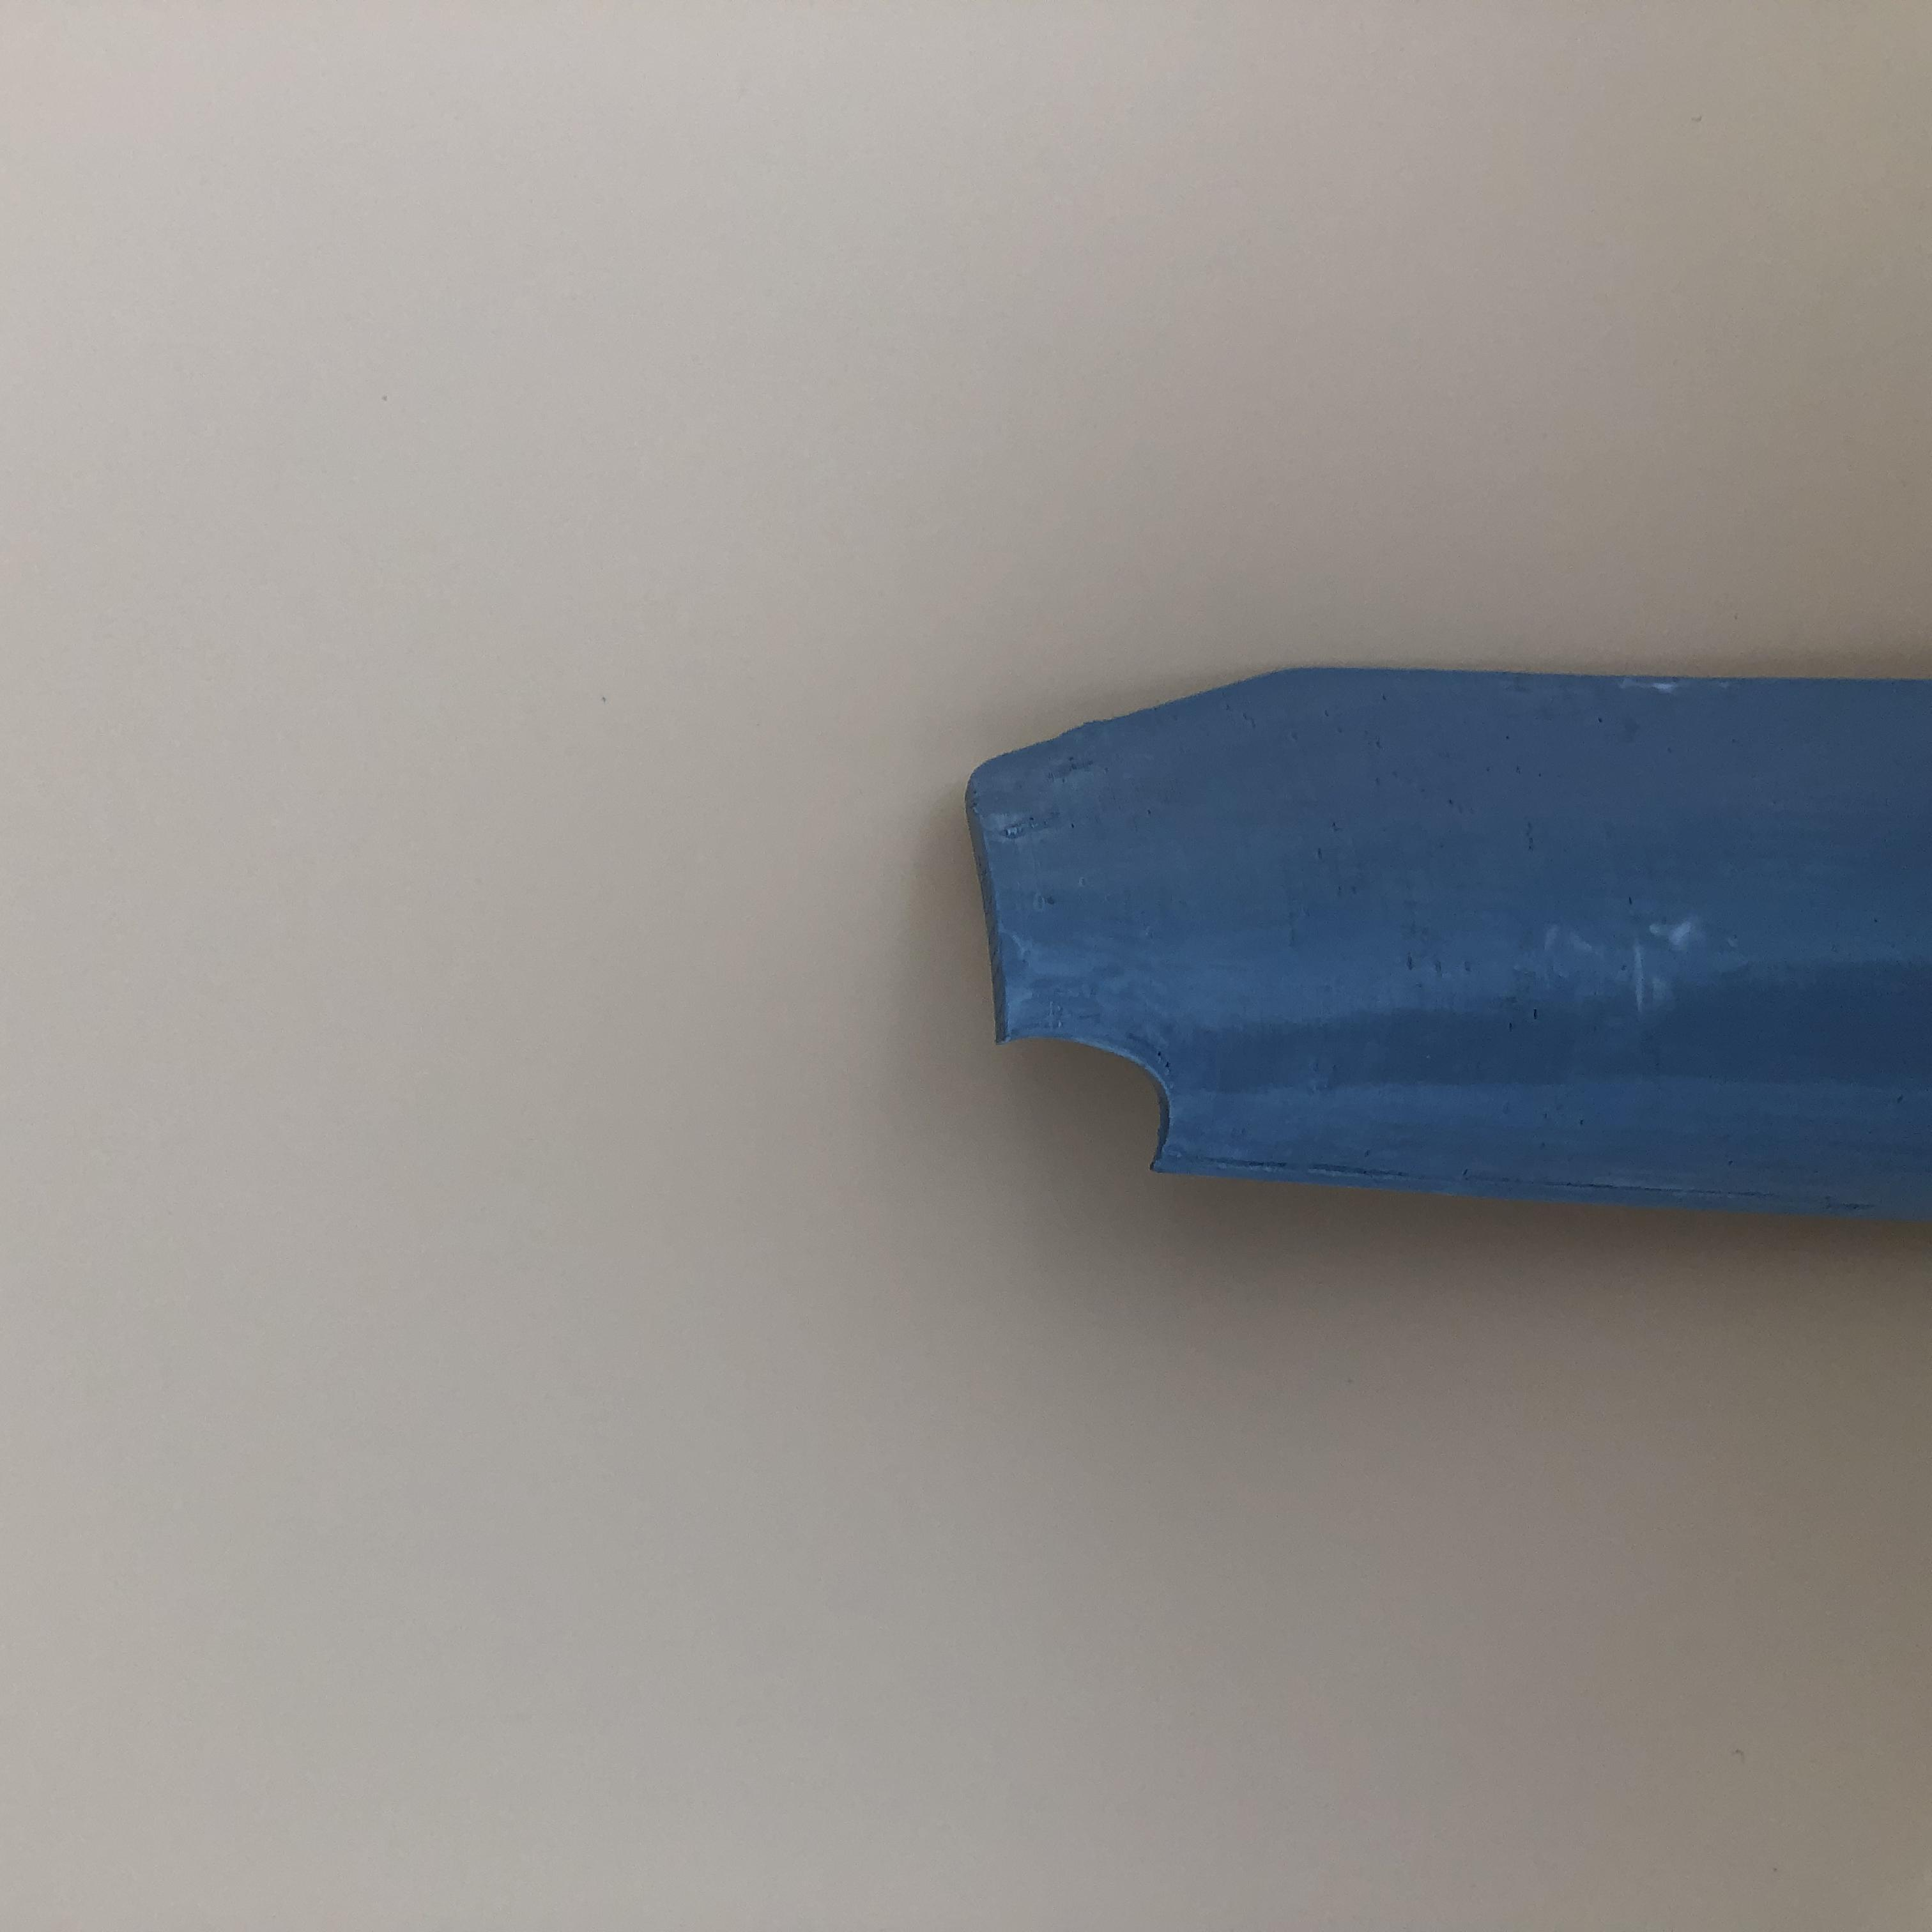fracture: (996, 1014, 1194, 1178)
